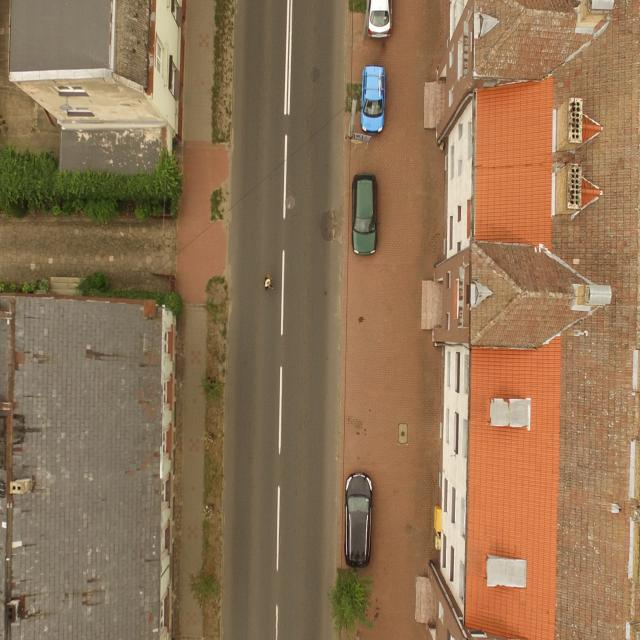cars: (346, 472, 376, 570), (350, 176, 380, 256), (360, 65, 387, 143), (365, 0, 394, 36)
houses: (407, 0, 640, 640), (0, 292, 179, 640), (5, 0, 188, 167)
trees: (61, 176, 178, 212), (0, 158, 55, 204), (333, 576, 371, 636)
